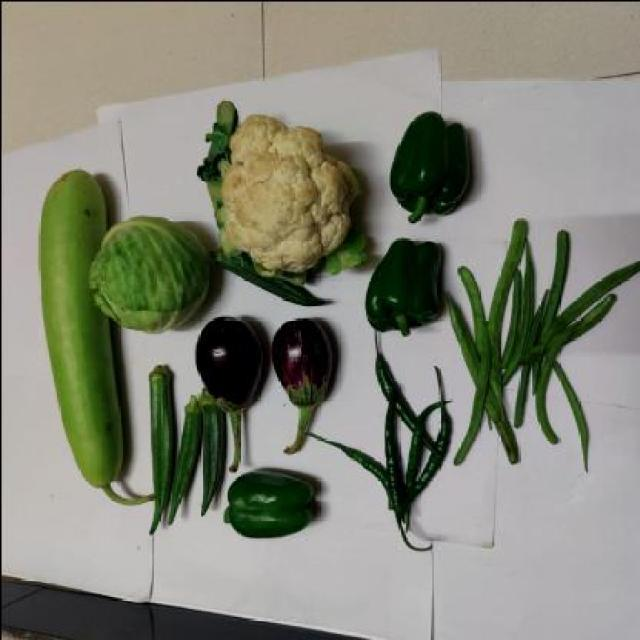Brinjal: (263, 315, 346, 460), (182, 312, 264, 445)
Cabbage: (88, 216, 214, 332)
Calabash: (21, 162, 130, 512)
Capsicum: (376, 104, 478, 230), (356, 225, 454, 338), (222, 470, 326, 544)
Cauliflower: (189, 100, 362, 280)
Green Chili: (323, 349, 459, 549)
Lady finger: (135, 362, 180, 544), (208, 251, 328, 314)
